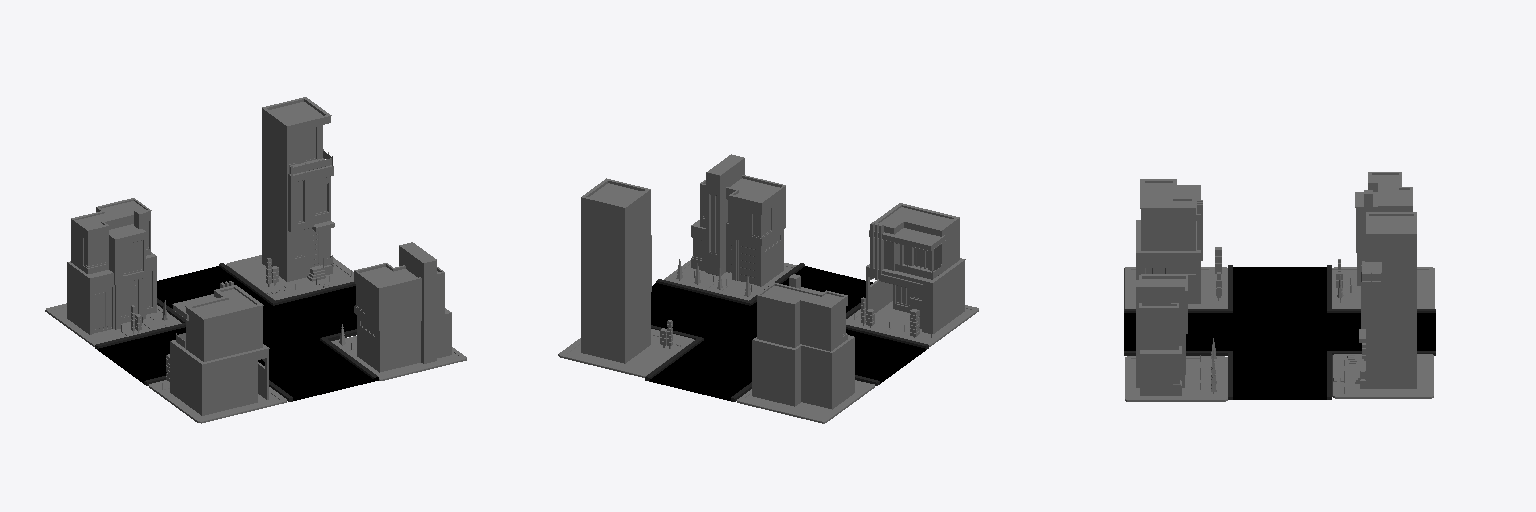
Rendered from road0.obj.
The picture shows the model from 3 angles: view 1: azimuth 30°, elevation 25°; view 2: azimuth 150°, elevation 25°; view 3: azimuth 270°, elevation 25°; orthographic projection.
Parts seen in each view (by area): view 1: 4_Way_Intersection, Box437_Mesh_164, Box345_Mesh_313, Box335_Mesh_309, Box524_Mesh_122, Line017_Mesh_194, Box522_Mesh_120, Box523_Mesh_121, Object093_Mesh_304, Object141_Mesh_171, Object127_Mesh_200, Rectangle007_Mesh_175 (+15 smaller); view 2: 4_Way_Intersection, Box437_Mesh_164, Line017_Mesh_194, Box422_Mesh_187, Box345_Mesh_313, Box523_Mesh_121, Box524_Mesh_122, Box335_Mesh_309, Rectangle007_Mesh_175, Object100_Mesh_311, Object174_Mesh_127, Object122_Mesh_199 (+14 smaller); view 3: 4_Way_Intersection, Box437_Mesh_164, Box335_Mesh_309, Box523_Mesh_121, Box345_Mesh_313, Box522_Mesh_120, Object276_Mesh_119, Rectangle007_Mesh_175, Line022_Mesh_129, Object122_Mesh_199, Object100_Mesh_311, Line020_Mesh_128 (+6 smaller).
Boxes of the visible parts, x1,y1,x2,y2 form: 4_Way_Intersection: [95, 263, 378, 401]; Box437_Mesh_164: [262, 109, 330, 281]; Box345_Mesh_313: [170, 340, 269, 415]; Box335_Mesh_309: [186, 292, 262, 361]; Box524_Mesh_122: [354, 271, 444, 330]; Line017_Mesh_194: [67, 252, 156, 334]; Box522_Mesh_120: [380, 308, 451, 371]; Box523_Mesh_121: [399, 242, 436, 363]; Object093_Mesh_304: [213, 360, 257, 412]; Object141_Mesh_171: [290, 127, 331, 265]; Object127_Mesh_200: [84, 222, 151, 315]; Rectangle007_Mesh_175: [226, 255, 353, 300]; 4_Way_Intersection: [645, 263, 928, 401]; Box437_Mesh_164: [581, 190, 650, 363]; Line017_Mesh_194: [752, 335, 854, 409]; Box422_Mesh_187: [757, 296, 847, 351]; Box345_Mesh_313: [866, 258, 965, 333]; Box523_Mesh_121: [706, 154, 744, 275]; Box524_Mesh_122: [729, 186, 785, 245]; Box335_Mesh_309: [884, 219, 959, 272]; Rectangle007_Mesh_175: [558, 329, 694, 377]; Object100_Mesh_311: [874, 203, 959, 231]; Object174_Mesh_127: [732, 230, 783, 286]; Object122_Mesh_199: [757, 282, 847, 307]; 4_Way_Intersection: [1124, 265, 1435, 399]; Box437_Mesh_164: [1366, 235, 1416, 388]; Box335_Mesh_309: [1141, 209, 1195, 250]; Box523_Mesh_121: [1136, 280, 1184, 387]; Box345_Mesh_313: [1136, 220, 1200, 303]; Box522_Mesh_120: [1140, 346, 1181, 395]; Object276_Mesh_119: [1139, 308, 1178, 349]; Rectangle007_Mesh_175: [1332, 354, 1433, 398]; Line022_Mesh_129: [1125, 356, 1227, 401]; Object122_Mesh_199: [1355, 172, 1412, 207]; Object100_Mesh_311: [1140, 179, 1195, 208]; Line020_Mesh_128: [1131, 359, 1227, 397].
Size of the model in its own units: 20 by 11.34 by 20.